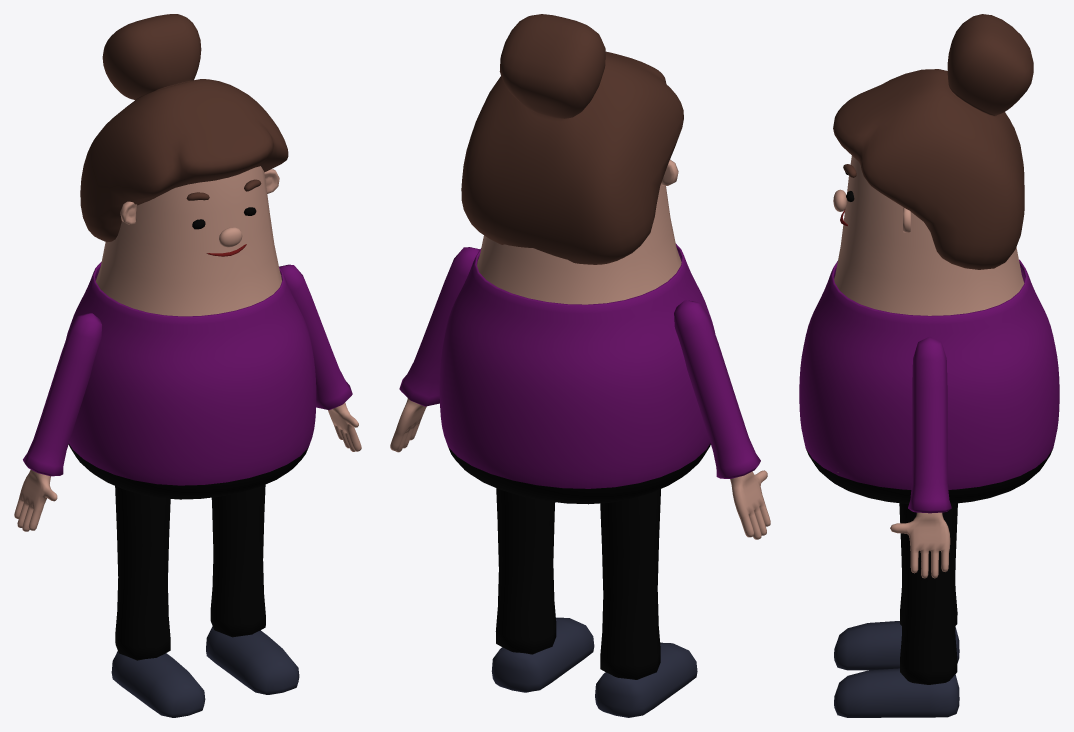
Rendered from customer3.fbx.
3 views of the same model, side by side, from view 1: azimuth 30°, elevation 25°; view 2: azimuth 150°, elevation 25°; view 3: azimuth 270°, elevation 25° (orthographic). The views are drawn at different scales.
Visible parts, largest first — view 1: Plane.008, Cube.058, Cube.045, Cube.037, Cube.044, Cube.034, Cube.014, Cube.043, Cube.036, Cube.059; view 2: Plane.008, Cube.058, Cube.037, Cube.045, Cube.044, Cube.034, Cube.014, Cube.043, Cube.036; view 3: Plane.008, Cube.058, Cube.045, Cube.014, Cube.044, Cube.043, Cube.036.
Part boxes in pixels (bbox=[...]): Plane.008: bbox=[66, 262, 316, 499]; Cube.058: bbox=[80, 14, 288, 242]; Cube.045: bbox=[95, 166, 281, 316]; Cube.037: bbox=[115, 486, 170, 660]; Cube.044: bbox=[210, 484, 265, 637]; Cube.034: bbox=[14, 313, 101, 531]; Cube.014: bbox=[279, 264, 361, 451]; Cube.043: bbox=[206, 626, 299, 694]; Cube.036: bbox=[111, 651, 205, 717]; Cube.059: bbox=[120, 169, 279, 224]; Plane.008: bbox=[439, 243, 715, 504]; Cube.058: bbox=[461, 14, 683, 264]; Cube.037: bbox=[600, 489, 660, 679]; Cube.045: bbox=[477, 184, 681, 304]; Cube.044: bbox=[495, 488, 556, 654]; Cube.034: bbox=[674, 300, 770, 539]; Cube.014: bbox=[390, 247, 479, 452]; Cube.043: bbox=[491, 617, 594, 692]; Cube.036: bbox=[595, 642, 697, 717]; Plane.008: bbox=[799, 259, 1059, 503]; Cube.058: bbox=[833, 14, 1033, 269]; Cube.045: bbox=[833, 156, 1024, 472]; Cube.014: bbox=[890, 336, 951, 578]; Cube.044: bbox=[899, 503, 957, 684]; Cube.043: bbox=[834, 668, 959, 717]; Cube.036: bbox=[834, 621, 959, 670].
Size of the model in its own units: 253 by 458 by 164.
Materials: 2 (2 with a texture image).
